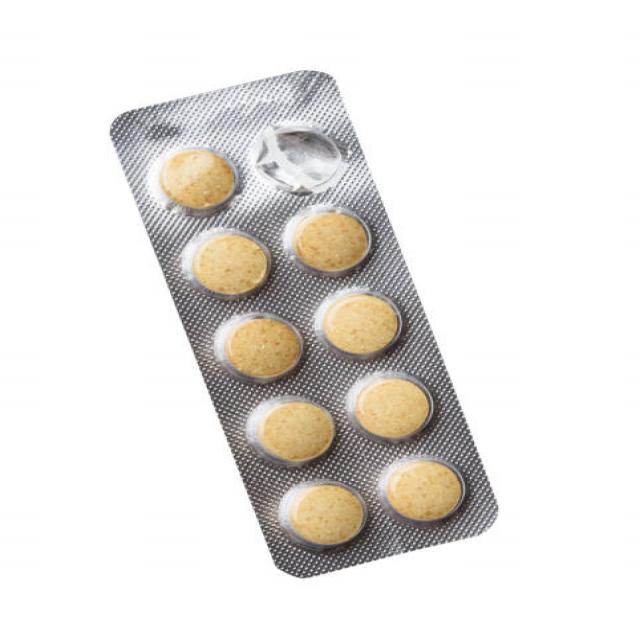Empty: (244, 112, 354, 198)
Pill: (210, 305, 310, 387), (277, 205, 380, 280), (272, 477, 373, 553), (182, 226, 280, 303), (242, 395, 344, 468), (373, 455, 473, 528), (151, 143, 244, 220), (312, 284, 407, 359), (344, 370, 436, 446)
